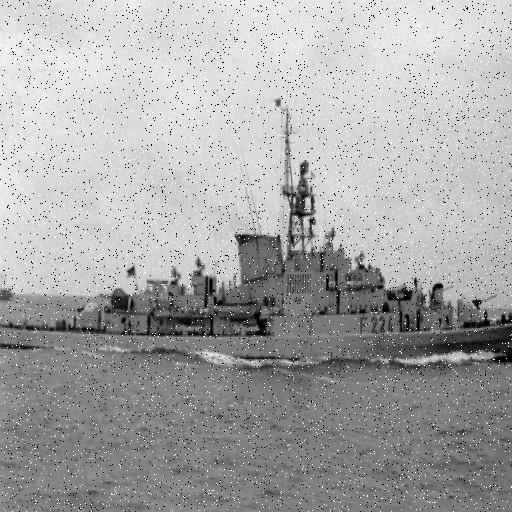Fragata: (1, 91, 512, 370)
